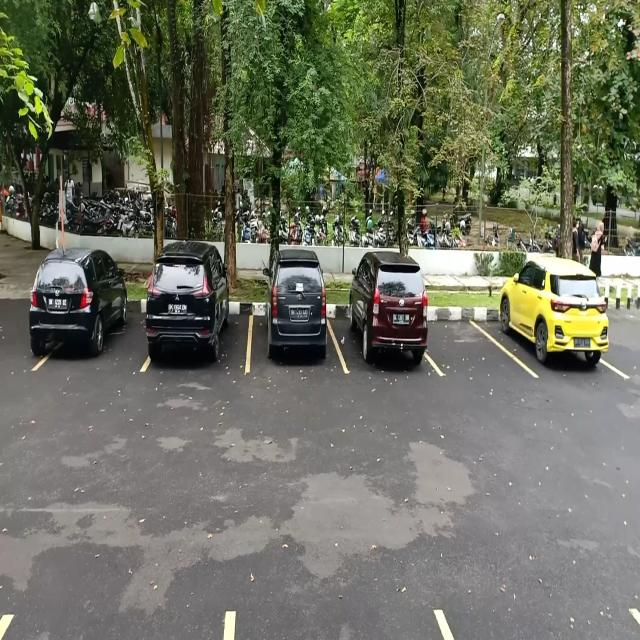empty: (428, 297, 500, 377)
occupied: (33, 268, 144, 374), (500, 281, 612, 379), (143, 288, 250, 368), (246, 288, 344, 374), (344, 297, 431, 370)
